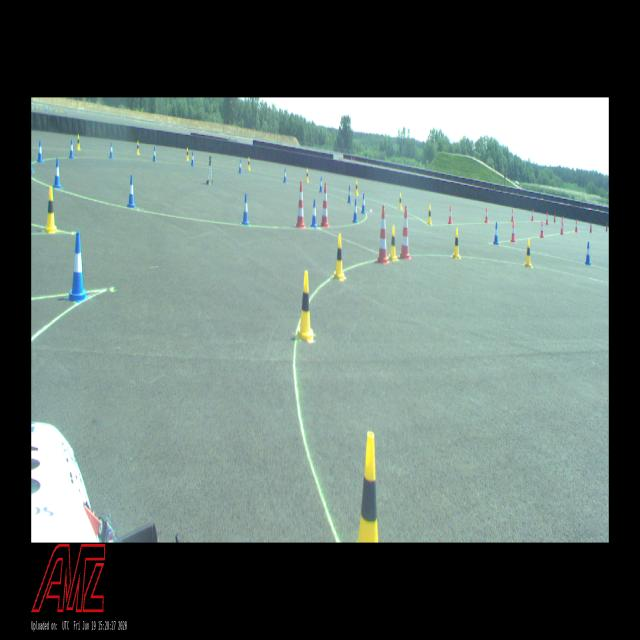blue_cone: (66, 232, 88, 303), (127, 175, 136, 208), (53, 158, 62, 188), (241, 192, 249, 225), (311, 199, 317, 228), (584, 241, 590, 265), (352, 198, 358, 222), (493, 222, 499, 245), (37, 141, 43, 162), (69, 139, 74, 158), (361, 194, 365, 214), (347, 185, 351, 203), (110, 142, 114, 159), (319, 177, 323, 192), (283, 168, 287, 182), (238, 160, 242, 173), (153, 147, 156, 161), (192, 152, 194, 166)
large_orange_cone: (376, 205, 390, 264), (398, 206, 411, 260), (294, 180, 306, 228), (319, 182, 330, 228)
orange_cone: (511, 221, 515, 242), (540, 220, 544, 238), (448, 206, 452, 224), (485, 207, 488, 223), (560, 220, 563, 234), (531, 210, 534, 222), (575, 220, 578, 232), (511, 209, 513, 222), (562, 216, 564, 229), (546, 213, 548, 225)
unknown_cone: (554, 213, 556, 222), (590, 223, 592, 232)
yellow_cone: (358, 432, 378, 542), (298, 270, 314, 339), (45, 187, 57, 233), (334, 233, 344, 280), (389, 226, 397, 260), (524, 238, 532, 266), (453, 228, 460, 258), (427, 205, 432, 225), (398, 192, 402, 209), (76, 134, 80, 150), (136, 140, 140, 154), (355, 181, 358, 195), (186, 148, 189, 160), (306, 169, 308, 182), (248, 157, 250, 170)
